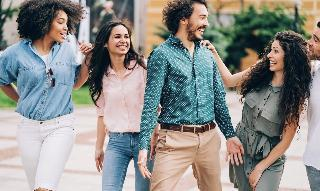person - v3 P: (138, 0, 243, 190), (204, 31, 311, 190), (0, 0, 86, 190), (89, 19, 149, 190), (303, 22, 319, 190)
